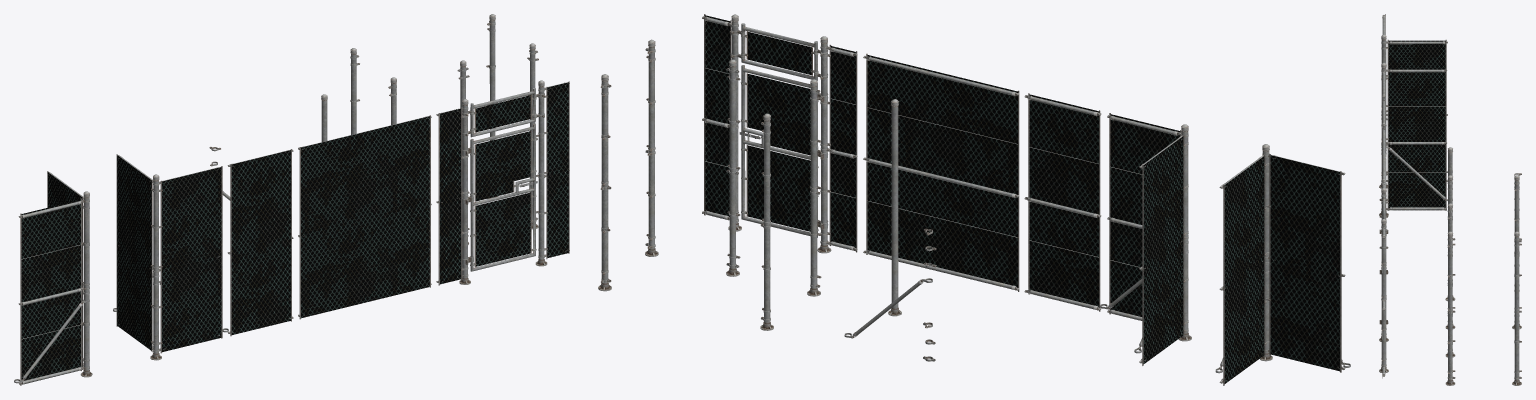
File: fence.glb
3 renders of one model, left to right at view 1: azimuth 30°, elevation 25°; view 2: azimuth 150°, elevation 25°; view 3: azimuth 270°, elevation 25°, orthographic. The views are drawn at different scales.
Parts seen in each view (by area): view 1: modular_chainlink_fence_door_gate, modular_chainlink_fence_door_latch; view 2: modular_chainlink_fence_door_gate, modular_chainlink_fence_door_latch; view 3: modular_chainlink_fence_door_gate, modular_chainlink_fence_door_latch.
Boxes of the visible parts, bbox=[...] form: modular_chainlink_fence_door_gate: bbox=[21, 82, 568, 383]; modular_chainlink_fence_door_latch: bbox=[14, 14, 569, 385]; modular_chainlink_fence_door_gate: bbox=[705, 15, 1339, 383]; modular_chainlink_fence_door_latch: bbox=[598, 14, 1350, 385]; modular_chainlink_fence_door_gate: bbox=[1388, 40, 1445, 210]; modular_chainlink_fence_door_latch: bbox=[1379, 14, 1521, 385].
Size of the model in its own units: 8.12 by 2.52 by 2.15.
2 materials, 2 textured.
